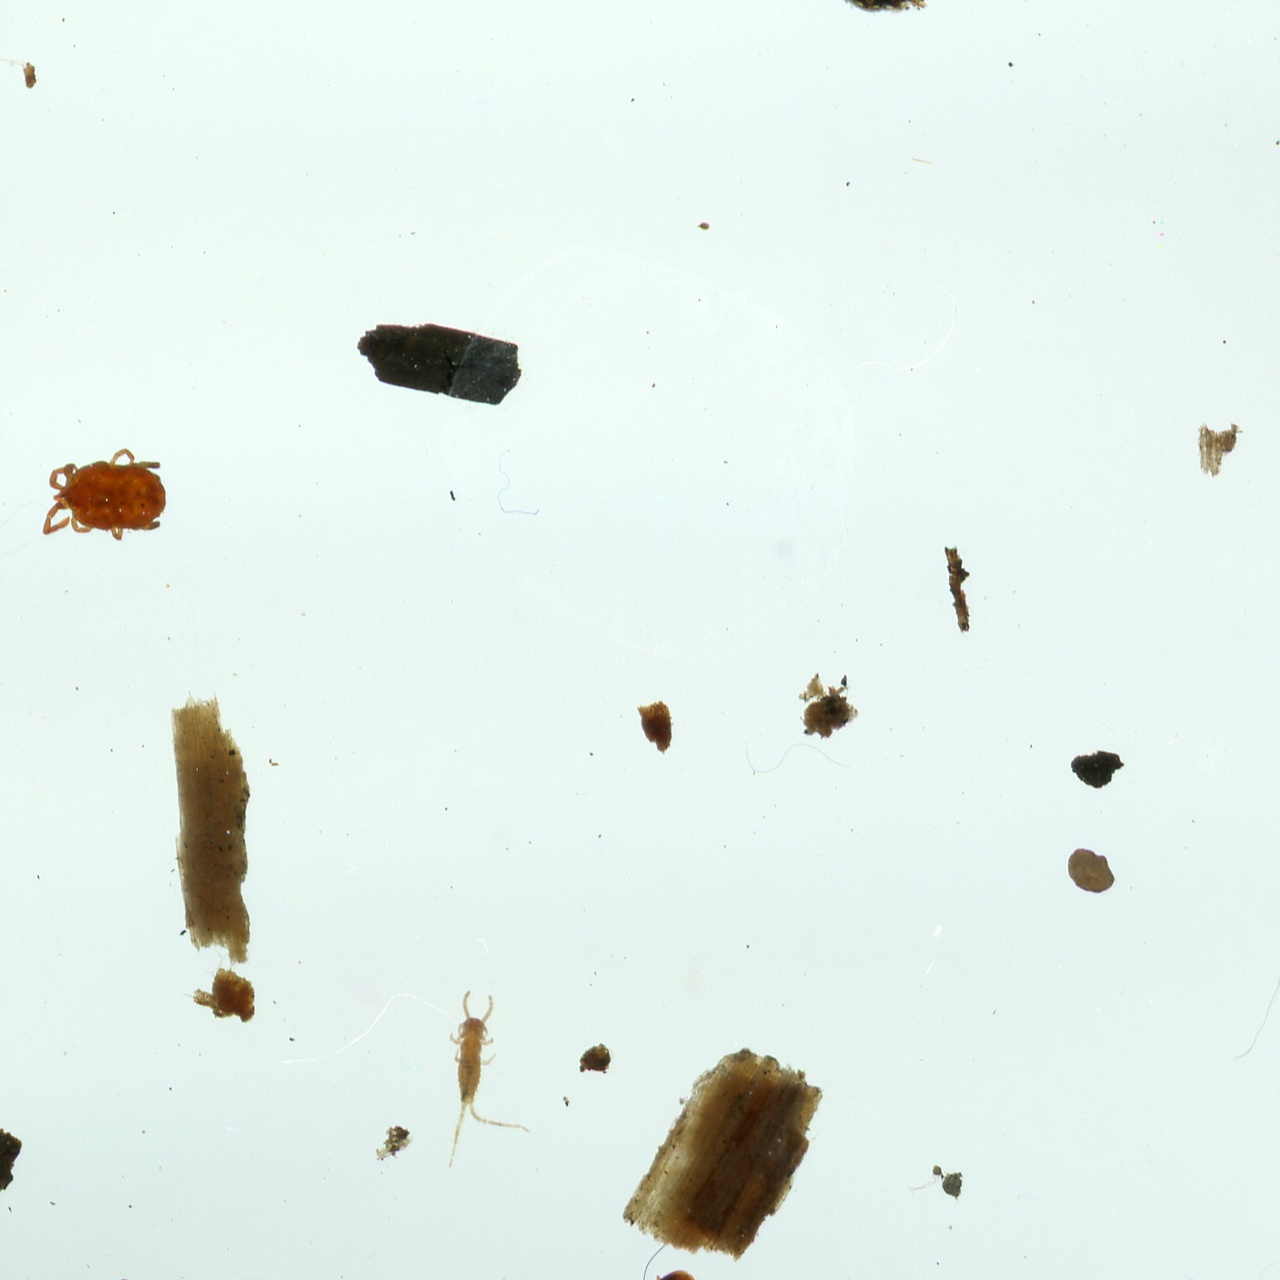arthropod: (440, 988, 540, 1175), (36, 445, 171, 544), (644, 1268, 697, 1280)
